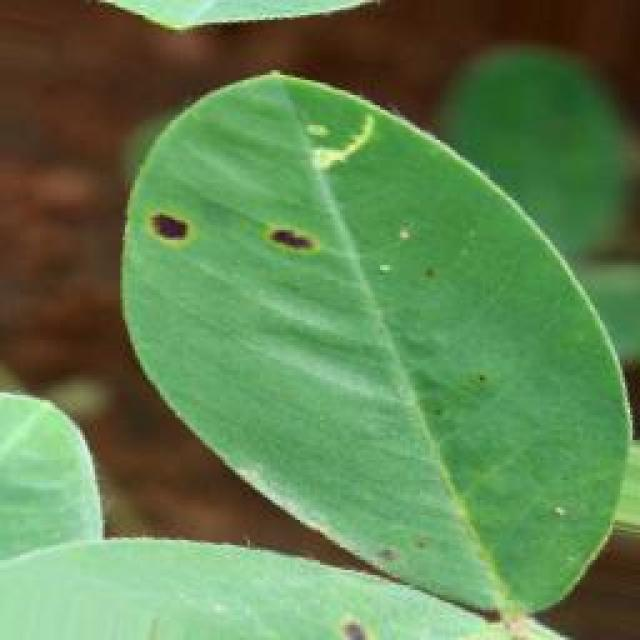Sigatoka: (224, 199, 324, 287), (131, 172, 203, 258), (375, 510, 445, 587), (406, 243, 463, 314), (320, 592, 395, 640), (444, 364, 495, 394)
